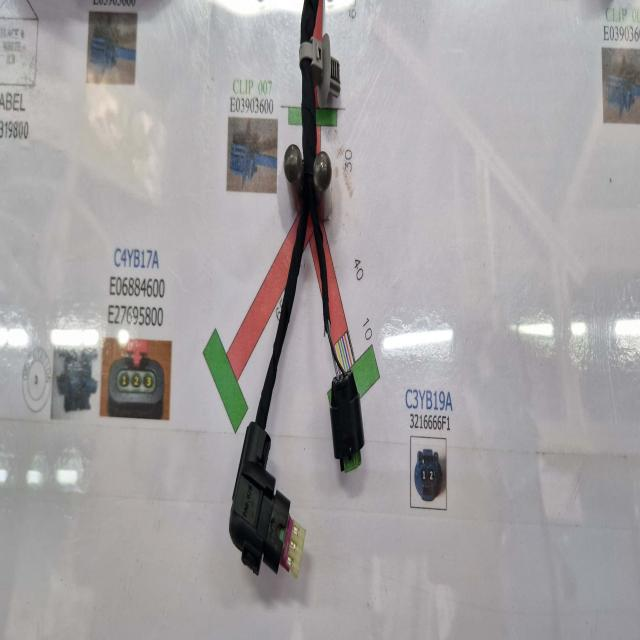Clip: (297, 33, 341, 109)
Connector: (228, 418, 307, 582), (329, 368, 365, 475)
Gape: (322, 312, 349, 377)
MHEV_N11_Cable: (256, 41, 334, 430), (300, 0, 319, 57)
